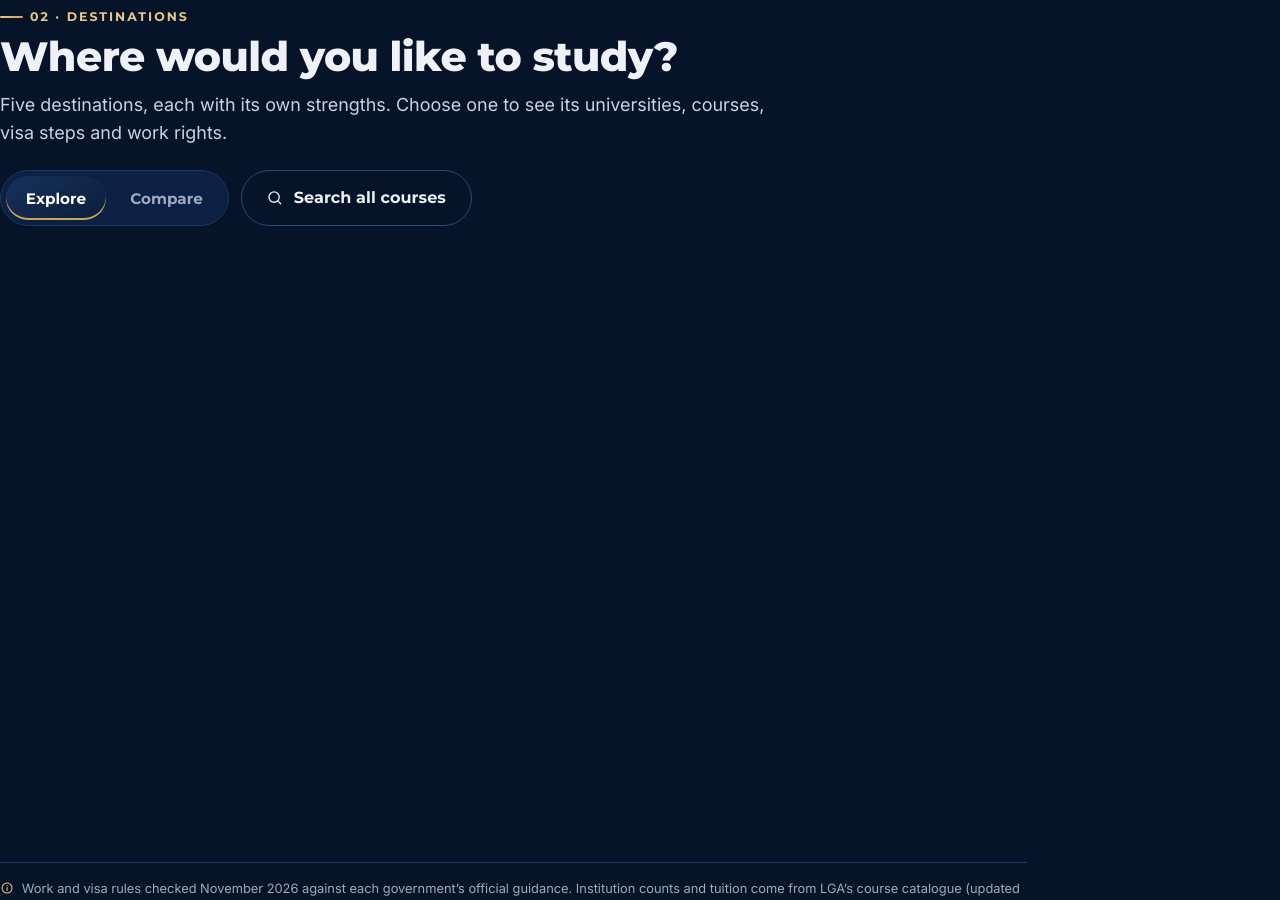
Test: Destinations › switches to the side-by-side comparison of all five destinations (FR-28)
The image size is (1280, 900).
Click the button "Compare" at coordinates (166, 198), box [110, 176, 223, 220]
(page scrolled)
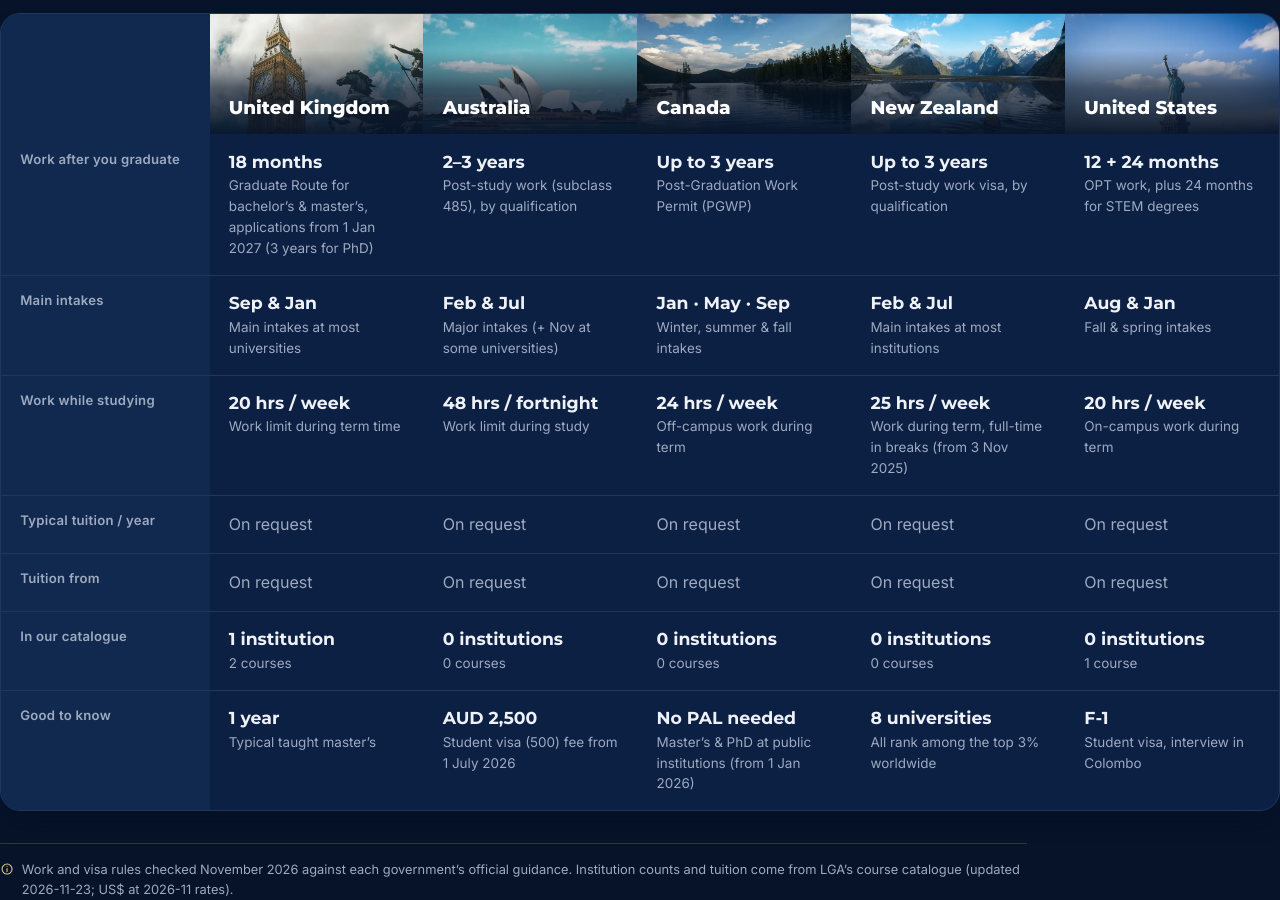
Expected: the table is shown
Expected: the column heading "Work after you graduate" is shown, [1, 134, 210, 275]
Expected: the column heading "Typical tuition / year" is shown, [1, 496, 210, 554]
